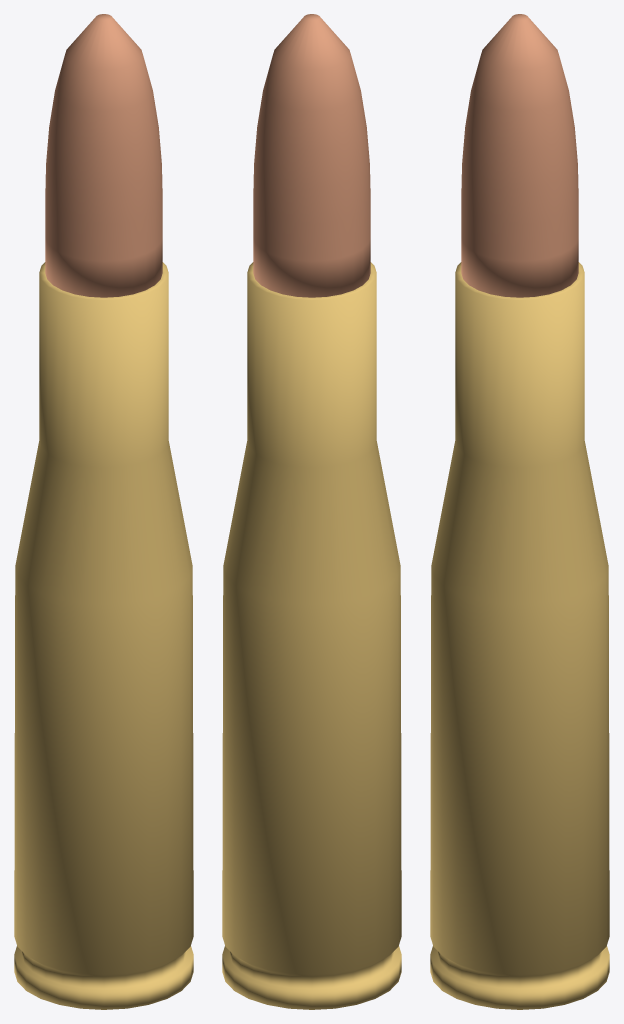
File: 308_std.glb
3 views of the same model, side by side, from view 1: azimuth 30°, elevation 25°; view 2: azimuth 150°, elevation 25°; view 3: azimuth 270°, elevation 25° (orthographic).
Visible parts, largest first — view 1: vaina, bala; view 2: vaina, bala; view 3: vaina, bala.
Part boxes in pixels (<box>): vaina: <box>14,262,193,1009</box>; bala: <box>45,14,162,297</box>; vaina: <box>222,262,401,1009</box>; bala: <box>253,14,370,297</box>; vaina: <box>430,262,609,1009</box>; bala: <box>461,14,578,297</box>.
Size of the model in its own units: 0.0119 by 0.0699 by 0.0119.
